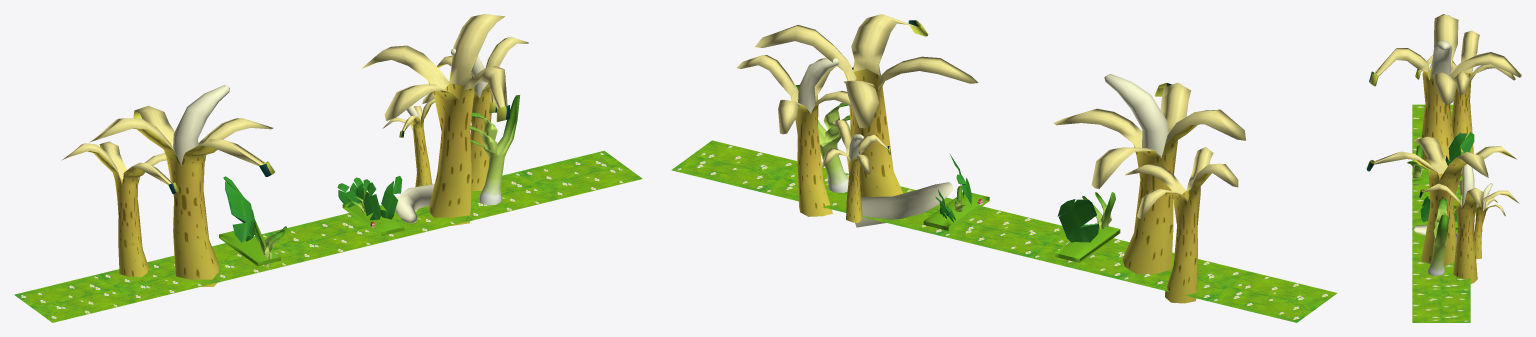
File: Block_Bord_02.fbx
The picture shows the model from 3 angles, left to right: view 1: azimuth 30°, elevation 25°; view 2: azimuth 150°, elevation 25°; view 3: azimuth 270°, elevation 25°; orthographic projection. The views are drawn at different scales.
Visible parts, largest first — view 1: Block_bord_02; view 2: Block_bord_02; view 3: Block_bord_02.
Part boxes in pixels (left/top/right/bottom): Block_bord_02: left=14, top=14, right=642, bottom=322; Block_bord_02: left=671, top=14, right=1337, bottom=322; Block_bord_02: left=1366, top=14, right=1521, bottom=322.
Bounding box in the file's own units: 53 × 16.21 × 15.92.
